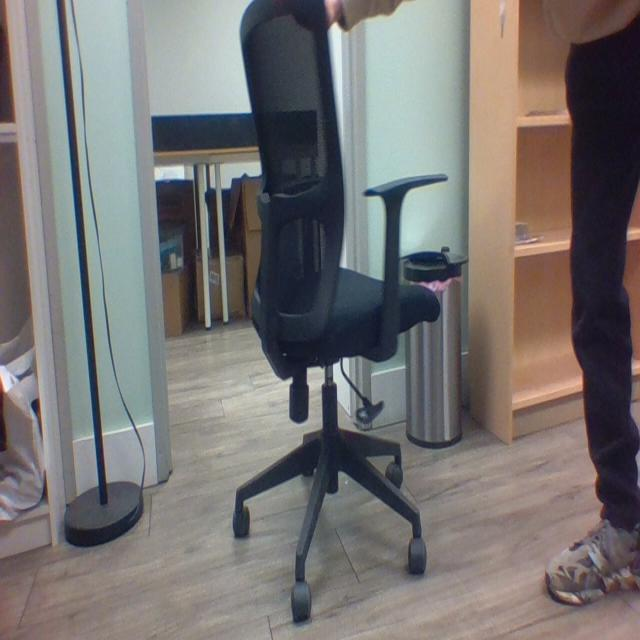chair: (240, 1, 440, 615)
